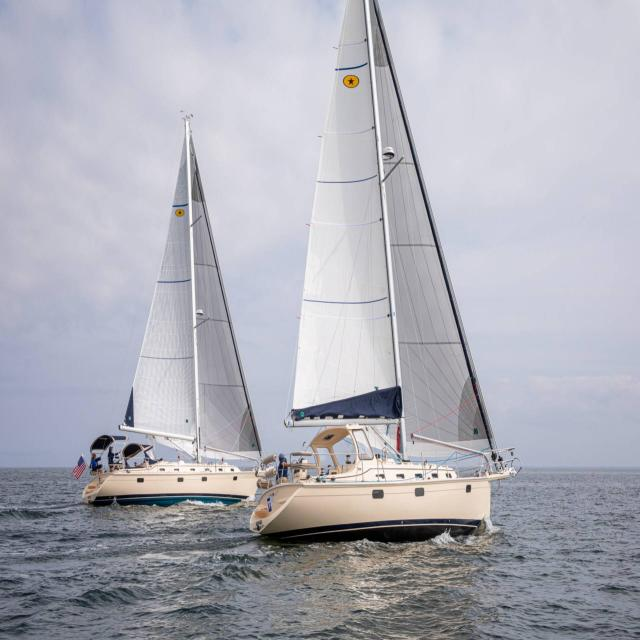boat: (253, 2, 524, 558), (75, 102, 267, 514)
